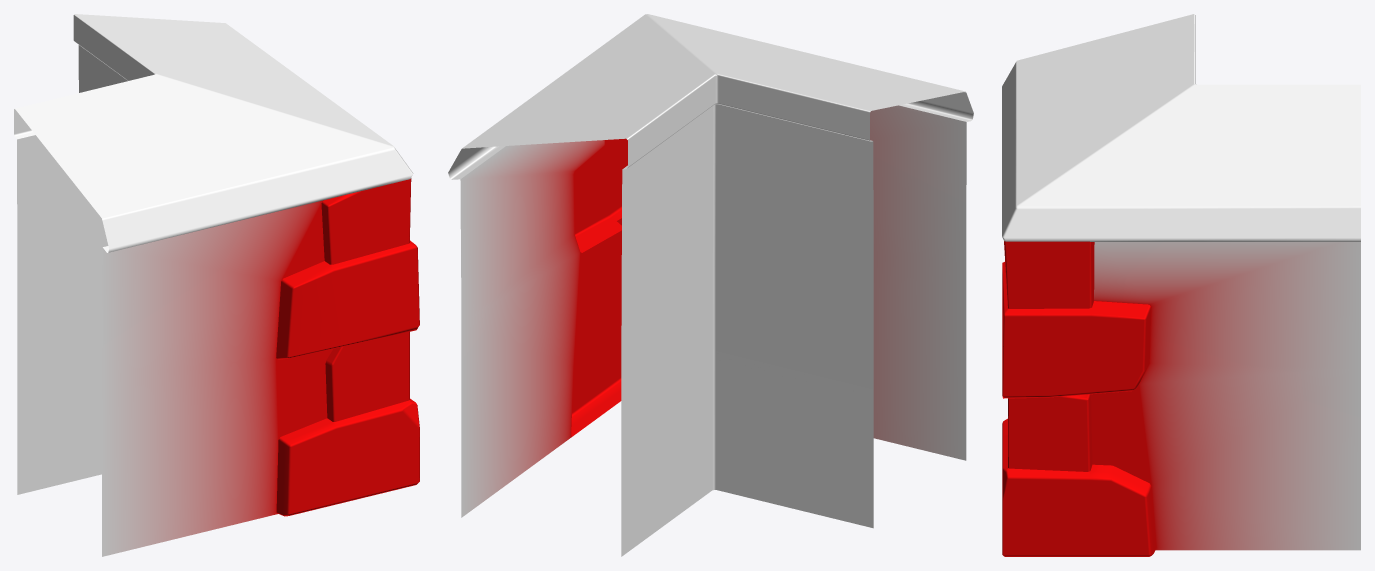
The model's file is Battlements_Corner_V2.fbx.
The picture shows the model from 3 angles, left to right: view 1: azimuth 30°, elevation 25°; view 2: azimuth 150°, elevation 25°; view 3: azimuth 270°, elevation 25°; orthographic projection. The views are drawn at different scales.
Parts seen in each view (by area): view 1: Battlements_Corner_V2 TEX; view 2: Battlements_Corner_V2 TEX; view 3: Battlements_Corner_V2 TEX.
Part boxes in pixels (x1,y1,x2,y2): Battlements_Corner_V2 TEX: (14, 14, 419, 556); Battlements_Corner_V2 TEX: (448, 14, 973, 556); Battlements_Corner_V2 TEX: (1002, 14, 1360, 556).
Bounding box in the file's own units: 159 × 188 × 156.
